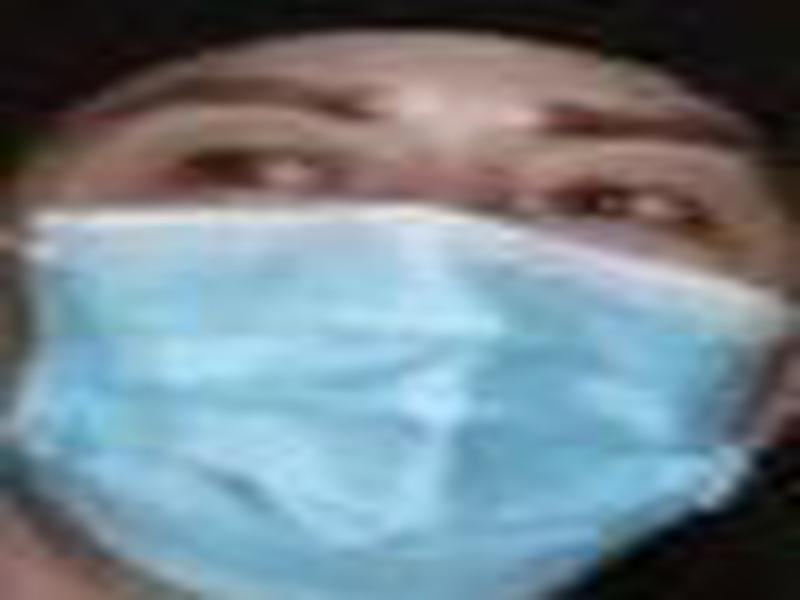with_mask: (1, 39, 793, 600)
